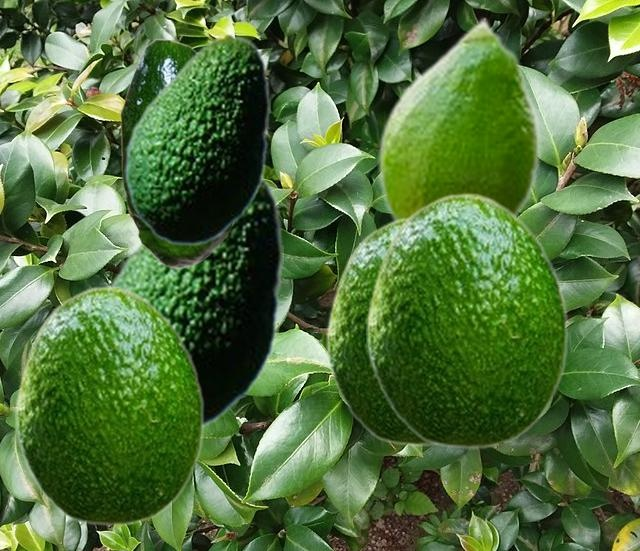avocado: (366, 192, 568, 448), (104, 172, 282, 429), (15, 285, 204, 525), (377, 15, 540, 221), (124, 33, 269, 245), (120, 38, 234, 267), (326, 216, 433, 445)
